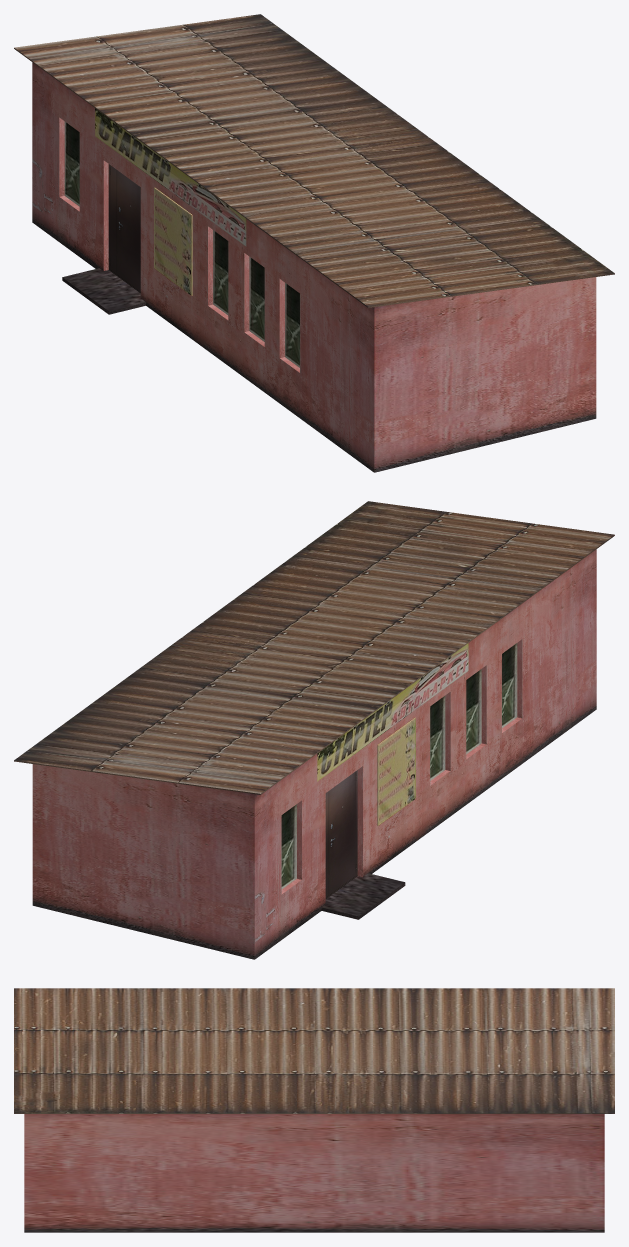
The model's file is omsk_avtomagazin14.FBX.
The picture shows the model from 3 angles, top to bottom: view 1: azimuth 30°, elevation 25°; view 2: azimuth 150°, elevation 25°; view 3: azimuth 270°, elevation 25°; orthographic projection. The views are drawn at different scales.
Parts seen in each view (by area): view 1: omsk_avtomagazin14; view 2: omsk_avtomagazin14; view 3: omsk_avtomagazin14.
Part boxes in pixels (x1=…): omsk_avtomagazin14: x1=14, y1=14, x2=614, y2=472; omsk_avtomagazin14: x1=14, y1=501, x2=614, y2=959; omsk_avtomagazin14: x1=14, y1=988, x2=614, y2=1232.
Size of the model in its own units: 5.31 by 11.99 by 3.24.
